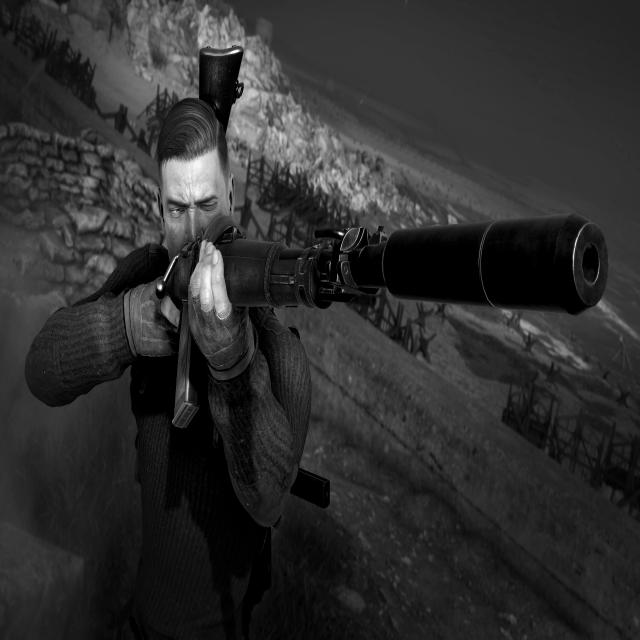Sniper: (152, 190, 640, 409)
